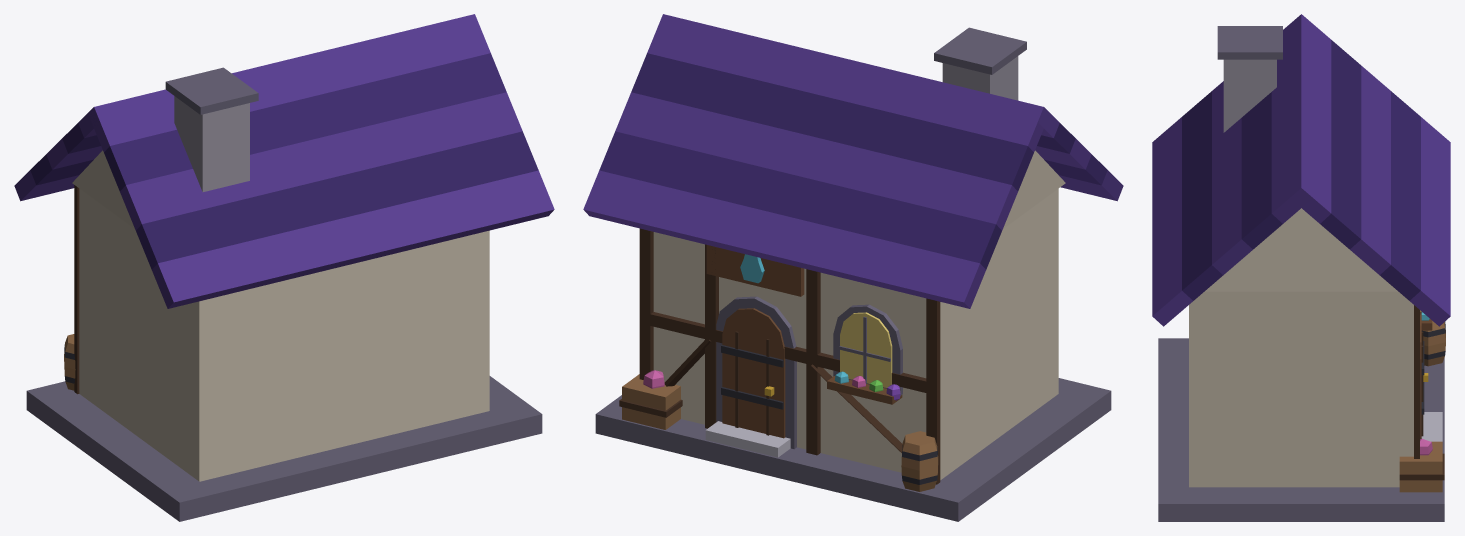
The model's file is Decor_WizardTower_Shop.fbx.
The picture shows the model from 3 angles, left to right: view 1: azimuth 30°, elevation 25°; view 2: azimuth 150°, elevation 25°; view 3: azimuth 270°, elevation 25°; orthographic projection. The views are drawn at different scales.
Visible parts, largest first — view 1: Shop_Body; view 2: Shop_Body; view 3: Shop_Body.
Boxes of the visible parts, x1,y1,x2,y2 form: Shop_Body: (14, 14, 554, 521); Shop_Body: (583, 14, 1123, 521); Shop_Body: (1152, 14, 1450, 521).
Size of the model in its own units: 20 by 19 by 14.51.
